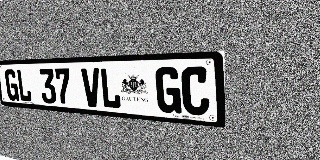3: (39, 69, 57, 104)
7: (54, 68, 72, 105)
C: (181, 66, 210, 116)
G: (155, 67, 182, 114), (4, 69, 19, 101)
L: (99, 68, 121, 109), (16, 69, 32, 102)
V: (81, 68, 102, 108)
